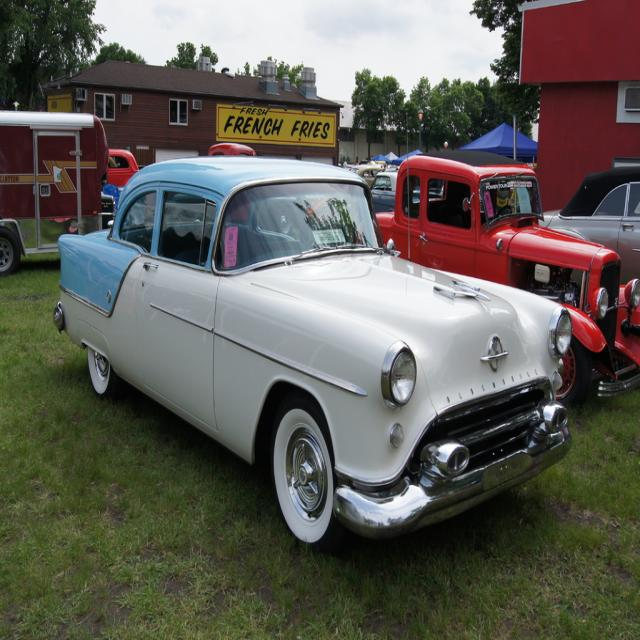car: (63, 172, 566, 548)
